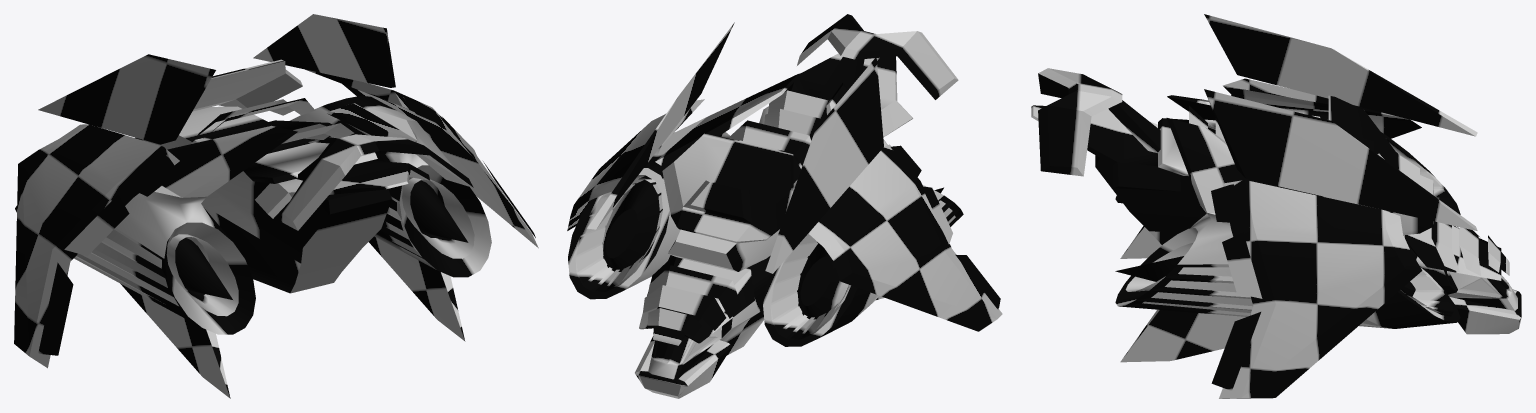
The model's file is streuner_specialist.obj.
3 views of the same model, side by side, from view 1: azimuth 30°, elevation 25°; view 2: azimuth 150°, elevation 25°; view 3: azimuth 270°, elevation 25° (orthographic). The views are drawn at different scales.
Visible parts, largest first — view 1: streuner_technician_low_poly; view 2: streuner_technician_low_poly; view 3: streuner_technician_low_poly.
Part boxes in pixels (box(x1,y1,x2,y2)): streuner_technician_low_poly: box(14, 14, 538, 398); streuner_technician_low_poly: box(567, 14, 1002, 398); streuner_technician_low_poly: box(1031, 14, 1521, 398).
Bounding box in the file's own units: 197 × 115 × 185.
1 material, 1 textured.
